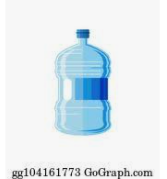Bottle: (56, 30, 111, 134)
